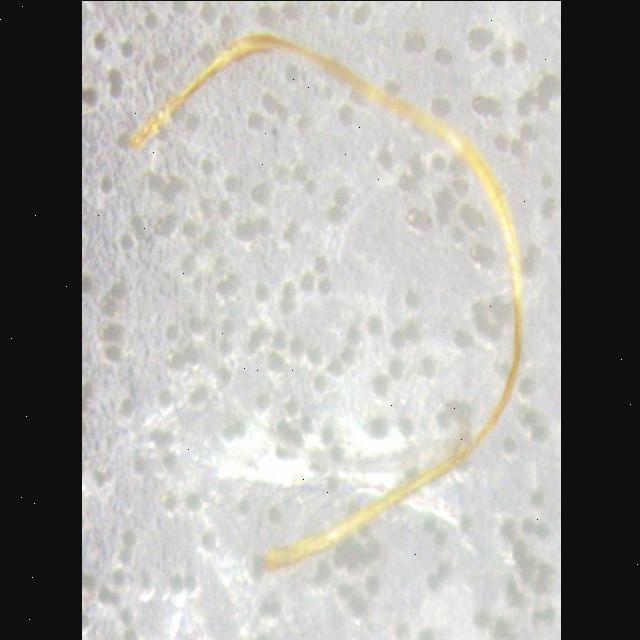Fibre: (125, 26, 522, 572)
